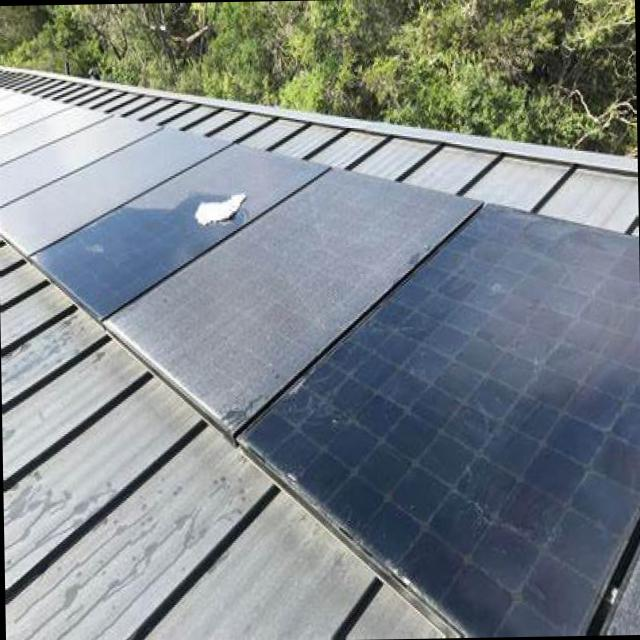faulty: (237, 210, 640, 637), (106, 171, 475, 425), (26, 146, 324, 315)
